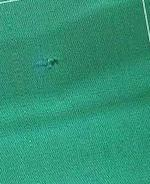knot: (38, 52, 61, 70)
